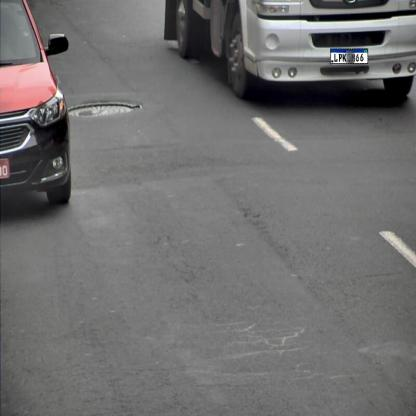PlacaM: (330, 48, 368, 64)
